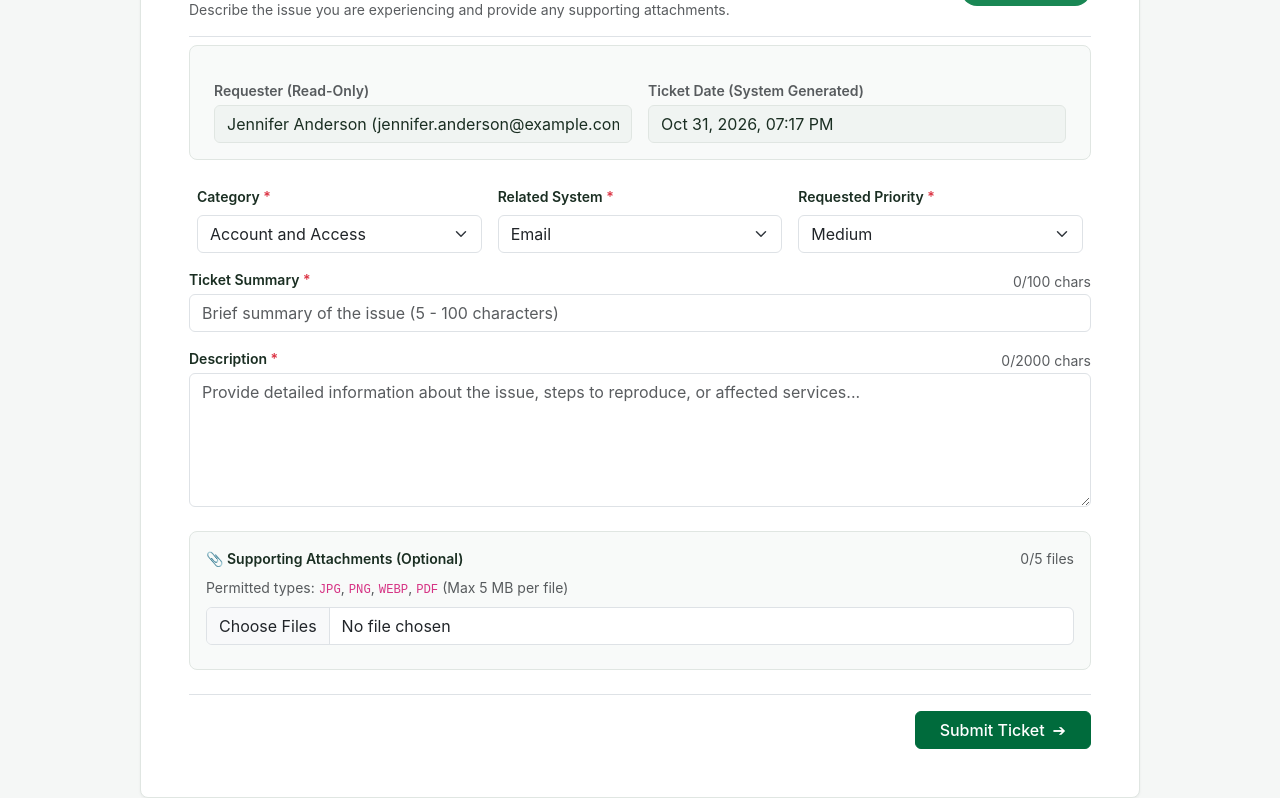
Scenario: CreateTicket Component › validates summary and description on submit and displays inline errors
(page scrolled)
Note: Attempt to submit empty form
Click the button "Submit Ticket ➔" at (1003, 730), box [915,711,1091,749]
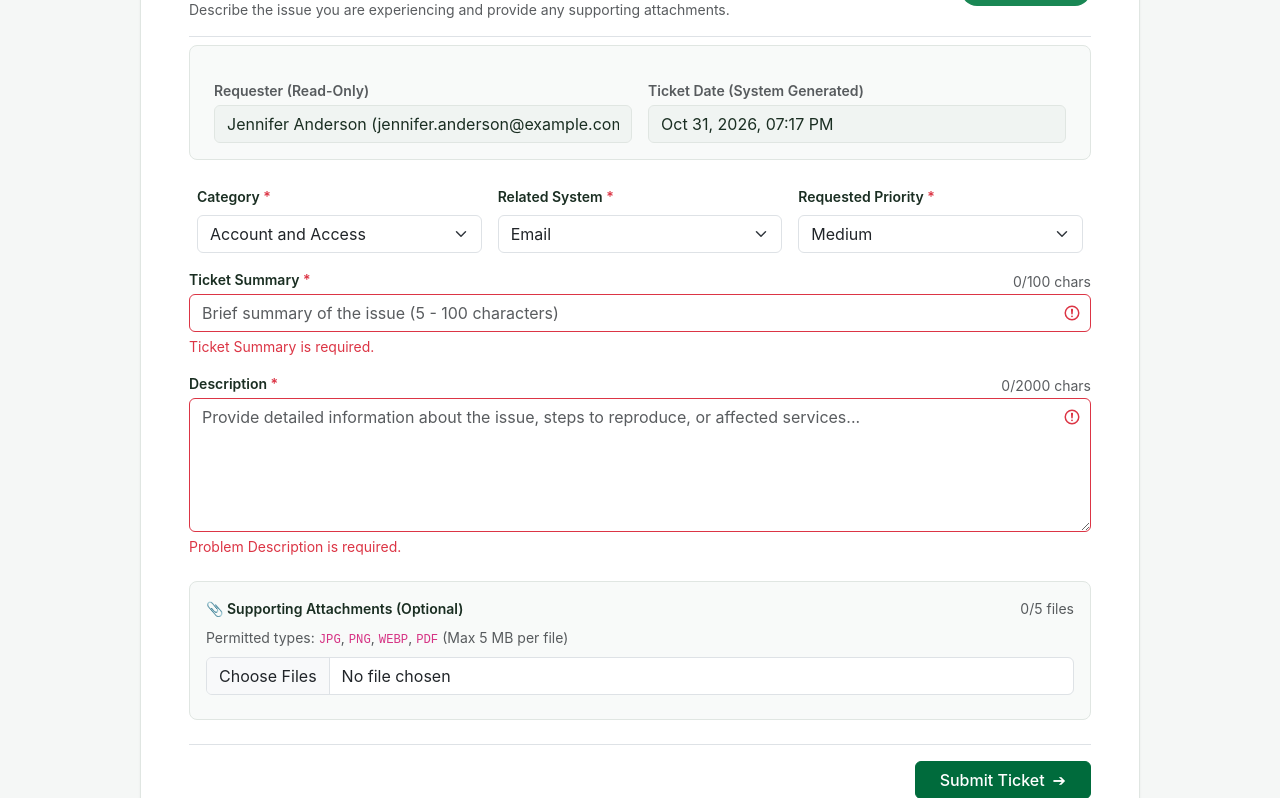
Check: the text "Ticket Summary is required." is shown, box [189,338,374,355]
Check: the text "Problem Description is required." is shown, box [189,538,401,555]
